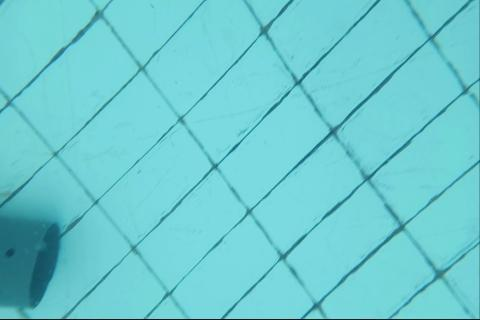kebocoran: (4, 246, 15, 260)
